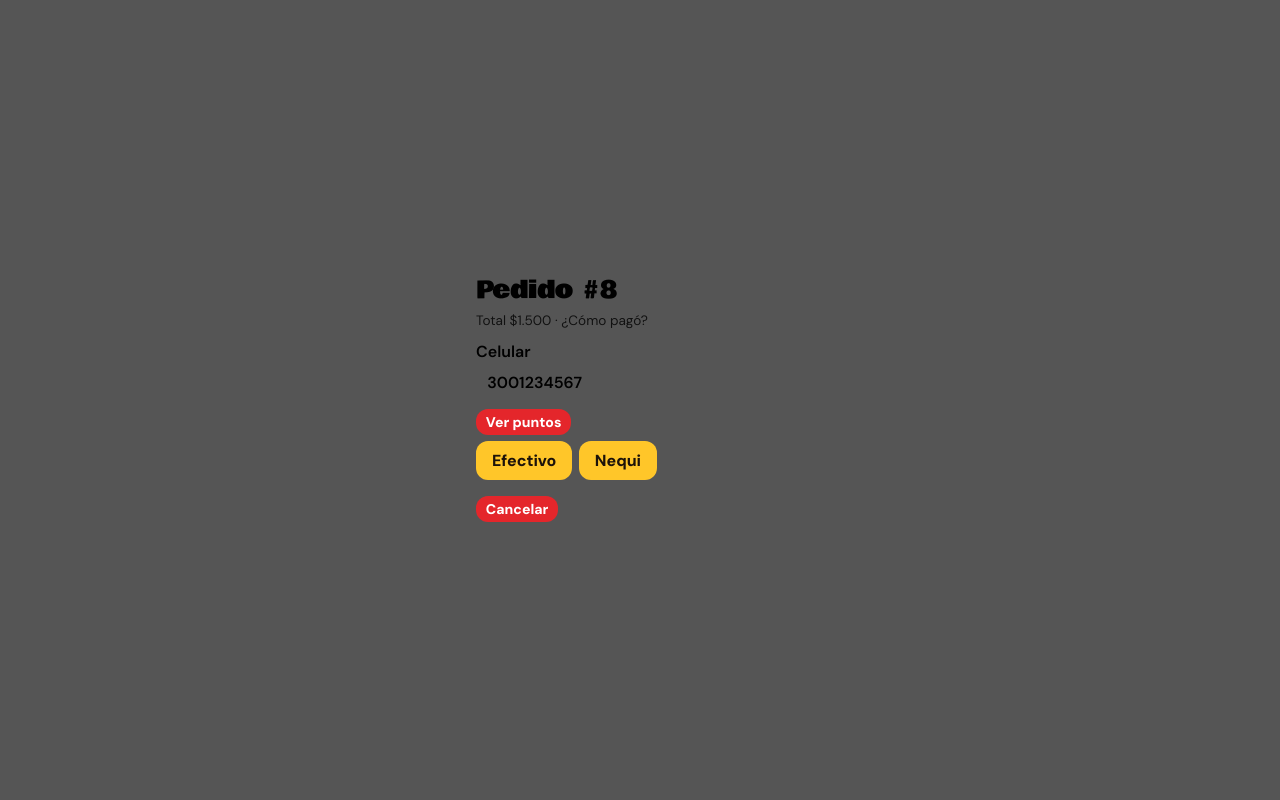
it: CobroModal › no deja canjear más que el saldo ni que el total
The image size is (1280, 800).
Click the button "Ver puntos" at {"x": 524, "y": 422}, box [476,409,571,435]
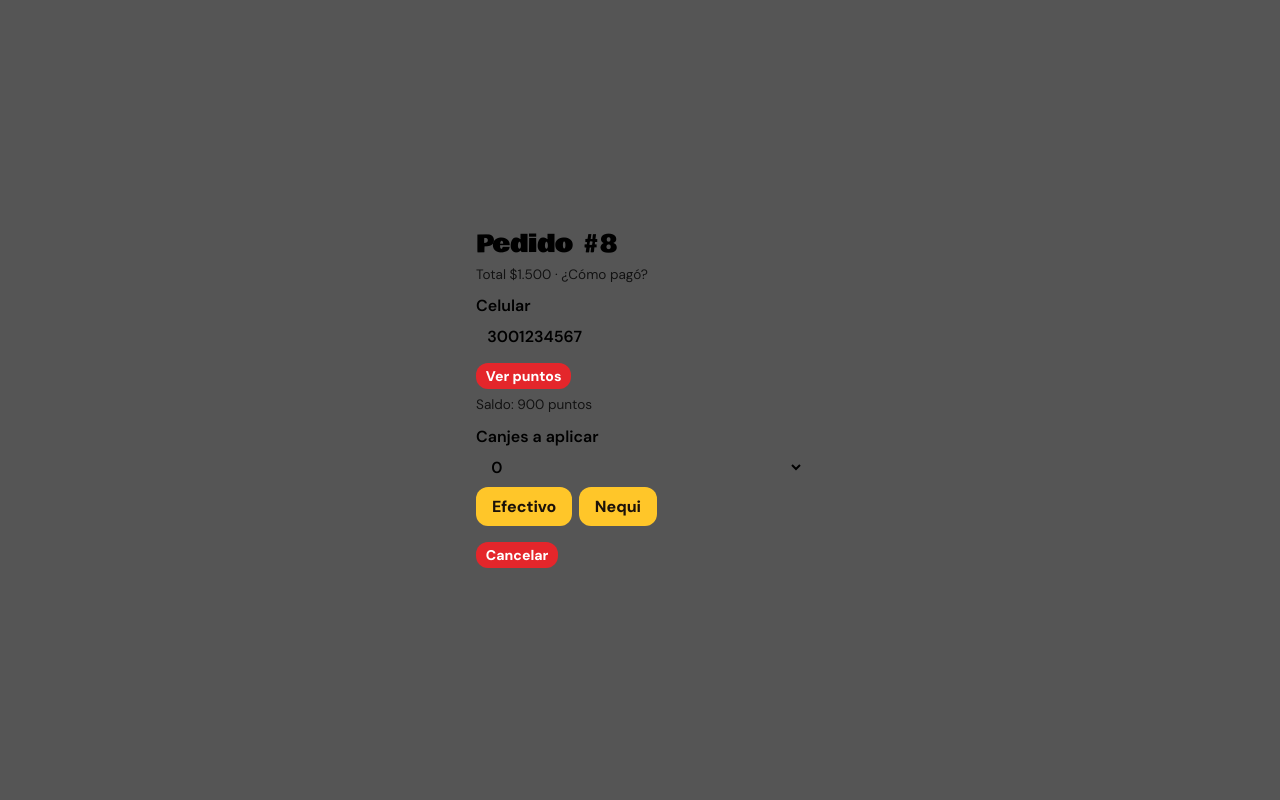
Expected: the text "Saldo: 900 puntos" is shown, [476,396,592,414]
